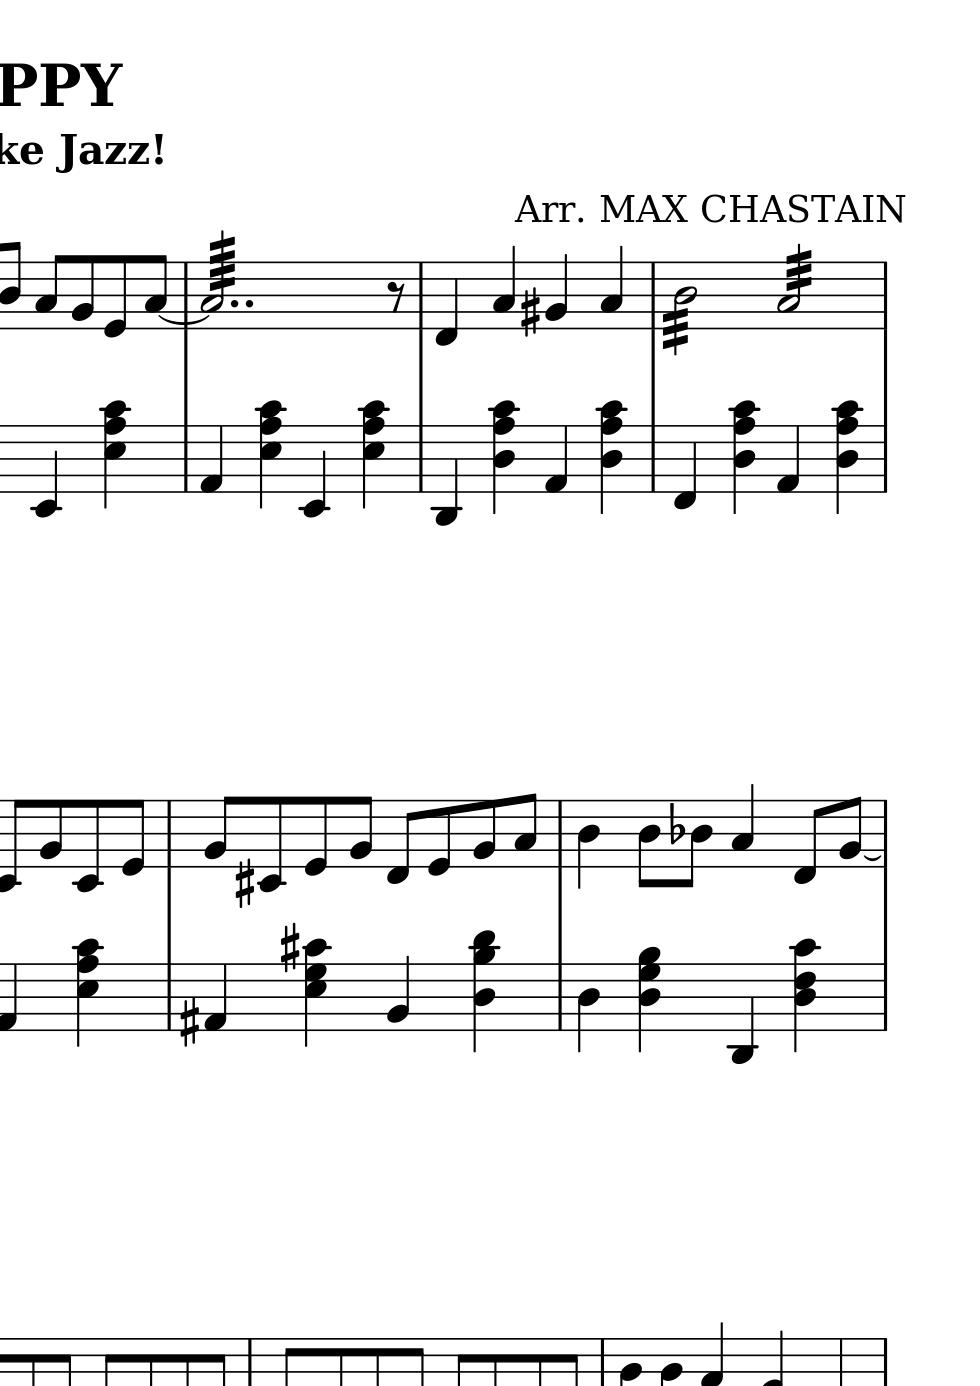4_-1: (433, 259, 459, 349), (672, 424, 697, 512)
4_-2: (299, 424, 328, 519), (32, 424, 59, 517)
4_-3: (432, 422, 460, 530), (729, 960, 756, 1068)
4_1: (203, 962, 229, 1032), (198, 425, 224, 496), (543, 425, 568, 496), (775, 424, 800, 496)
4_2: (385, 955, 412, 1032), (544, 252, 568, 331)
4_3: (729, 783, 755, 869), (491, 245, 517, 330), (598, 245, 624, 330)
4_4: (575, 799, 601, 891), (576, 962, 600, 1054)
4_th: (595, 399, 629, 516), (252, 394, 286, 510), (486, 399, 520, 512), (788, 933, 819, 1056), (355, 394, 387, 511), (468, 929, 497, 1053), (99, 394, 129, 511), (729, 399, 758, 514), (71, 932, 100, 1051), (832, 399, 860, 516), (634, 941, 662, 1055), (303, 936, 331, 1046)
8_-1: (789, 799, 825, 887), (383, 799, 417, 887)
8_-2: (71, 797, 103, 894), (257, 794, 285, 894)
8_0: (101, 252, 127, 341), (301, 793, 329, 878), (425, 799, 453, 879), (119, 799, 145, 878)
8_2: (202, 794, 234, 869), (69, 253, 94, 331), (347, 794, 373, 869), (836, 795, 862, 869), (37, 799, 64, 869), (470, 799, 496, 869)
8_3: (33, 253, 63, 331), (142, 252, 167, 330), (513, 790, 537, 869)
8_4: (680, 799, 713, 891), (635, 799, 661, 890), (1, 238, 21, 331)
Double_dot: (227, 297, 255, 310)
Flat: (667, 800, 685, 846)
Rests8: (386, 279, 406, 314)
Sharp: (176, 996, 200, 1049), (518, 284, 541, 339), (278, 922, 300, 975), (233, 858, 255, 909)
Single_barline: (412, 263, 430, 329), (160, 801, 177, 869), (177, 425, 194, 492), (552, 801, 568, 867), (412, 426, 428, 492), (552, 964, 568, 1030), (160, 963, 176, 1031), (877, 262, 893, 329), (178, 262, 194, 328), (876, 426, 892, 492), (645, 263, 661, 328), (877, 964, 892, 1031), (645, 426, 660, 492), (879, 799, 893, 867)
Slur: (861, 853, 883, 864)
Stem: (659, 261, 696, 356), (202, 229, 237, 330), (778, 245, 813, 330)
